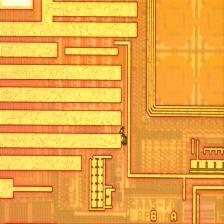PARTICLE: (111, 125, 134, 148)
